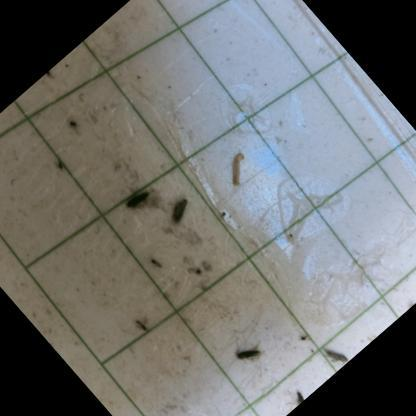prays_oleae: (161, 187, 212, 239), (116, 177, 160, 221), (224, 329, 268, 373), (320, 335, 353, 370), (278, 380, 310, 412)
